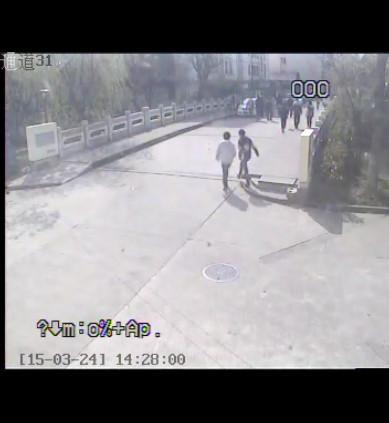person: (216, 132, 238, 197), (238, 128, 262, 186), (291, 99, 303, 134), (276, 103, 289, 134), (305, 101, 318, 128), (265, 99, 276, 122), (222, 96, 233, 118), (257, 96, 265, 120), (246, 98, 255, 118)
